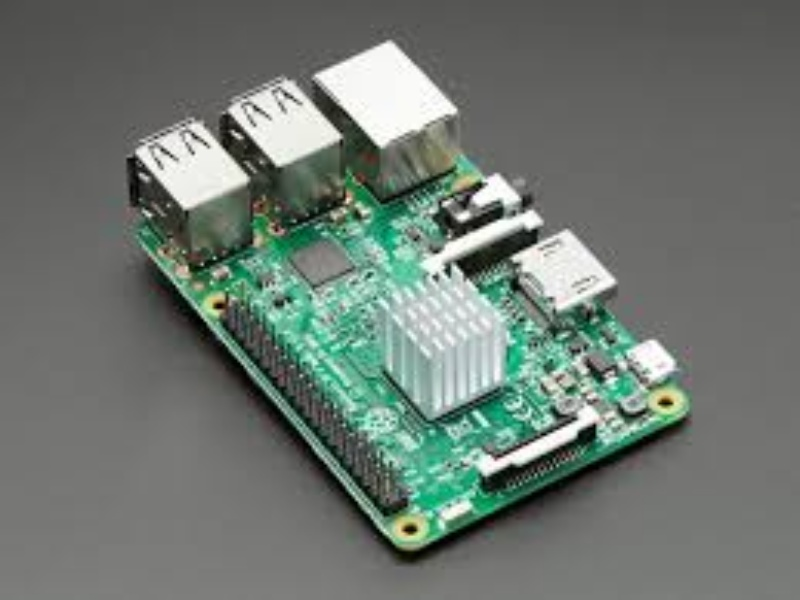raspberrypi: (109, 32, 703, 556)
